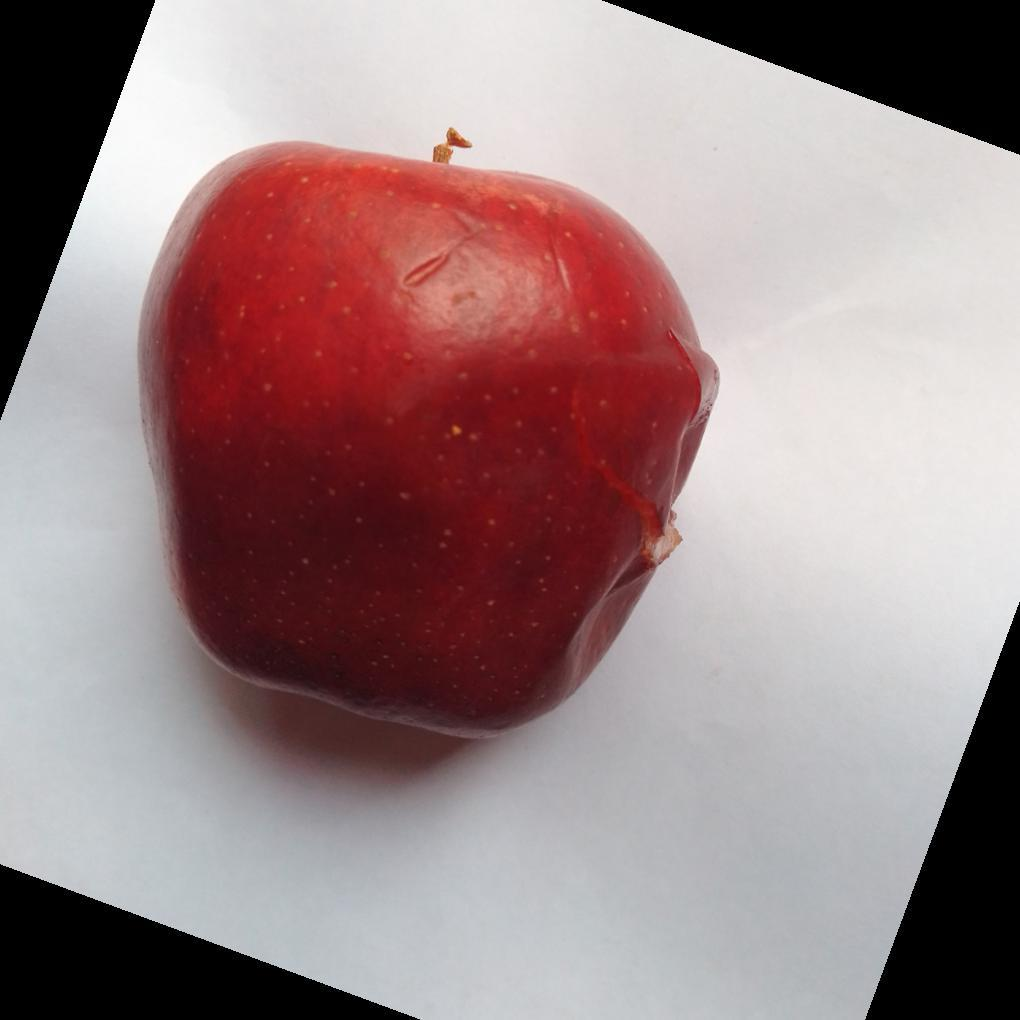FreshOrange: (134, 142, 721, 743)
